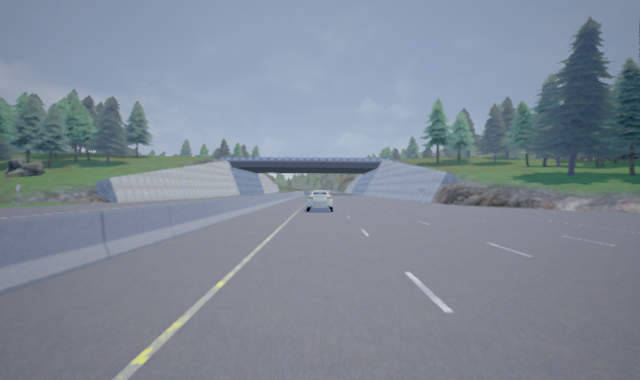vehicle: (306, 190, 334, 211)
